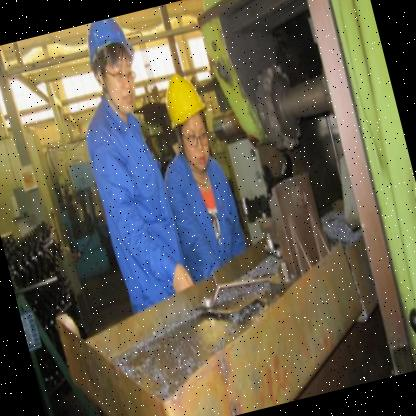capacete: (78, 14, 151, 126), (157, 63, 224, 179)
sem_colete_refletivo: (74, 87, 198, 318), (158, 148, 256, 286)
